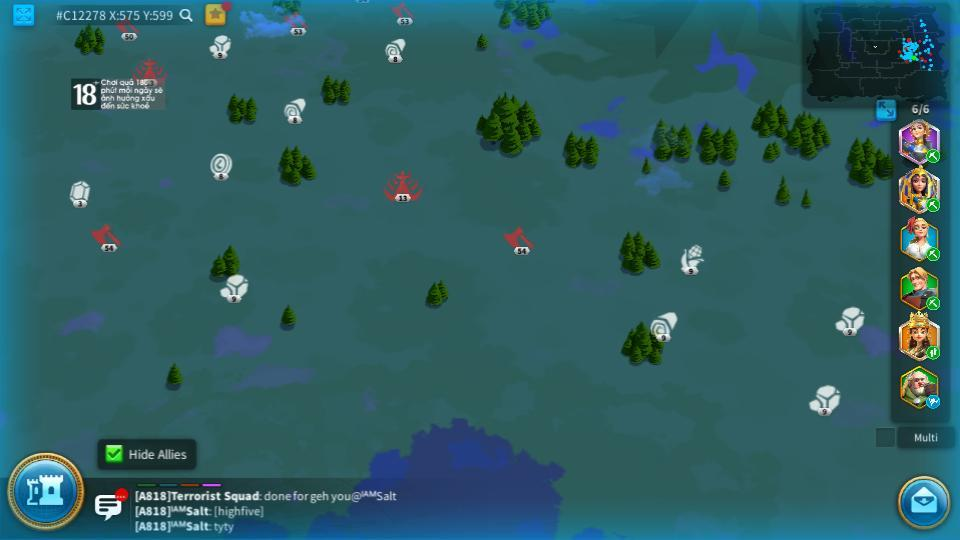gem-z-out: (67, 180, 91, 207)
march_farming: (923, 197, 940, 212), (925, 149, 941, 162), (924, 250, 939, 261)
march_idle: (925, 396, 942, 408)
march_marching: (925, 347, 941, 359), (925, 297, 941, 309)
